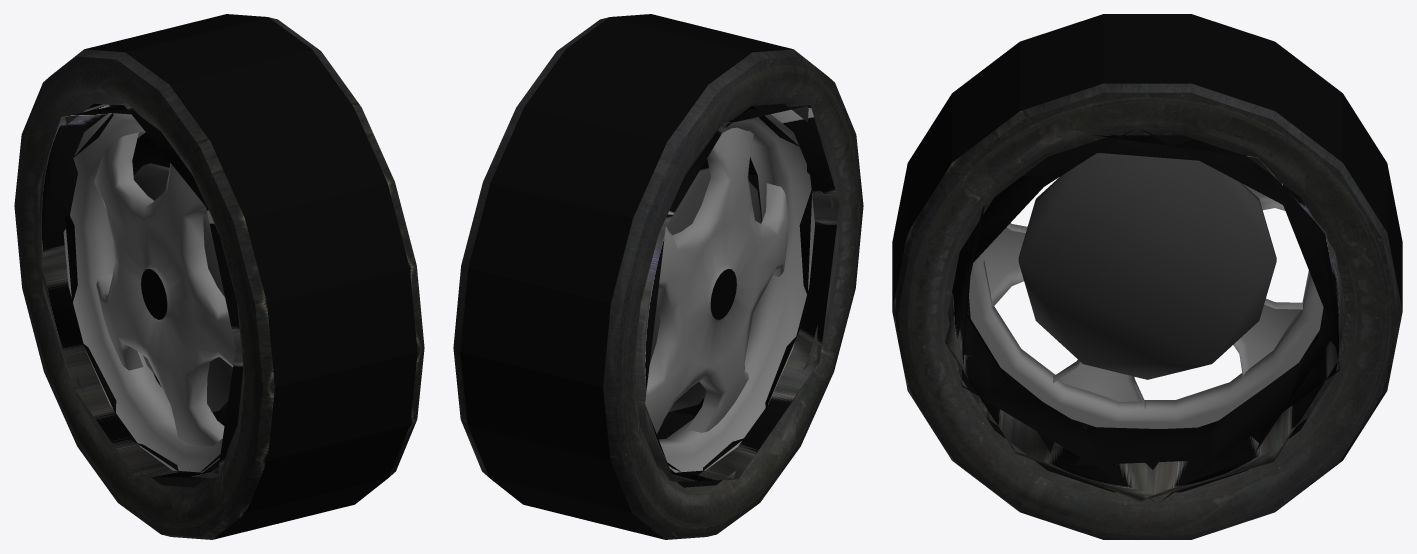
Rendered from M3_wheel_d3.obj.
The picture shows the model from 3 angles, left to right: view 1: azimuth 30°, elevation 25°; view 2: azimuth 150°, elevation 25°; view 3: azimuth 270°, elevation 25°; orthographic projection.
Parts seen in each view (by area): view 1: M3_wheel.001, M3_wheel.002, M3_wheel, M3_wheel.003; view 2: M3_wheel.001, M3_wheel.002, M3_wheel, M3_wheel.003; view 3: M3_wheel.001, M3_wheel.003, M3_wheel, M3_wheel.002.
Part boxes in pixels (x1=…): M3_wheel.001: x1=14, y1=14, x2=424, y2=539; M3_wheel.002: x1=63, y1=113, x2=235, y2=472; M3_wheel: x1=37, y1=103, x2=243, y2=479; M3_wheel.003: x1=133, y1=163, x2=232, y2=412; M3_wheel.001: x1=453, y1=14, x2=863, y2=539; M3_wheel.002: x1=645, y1=114, x2=814, y2=472; M3_wheel: x1=634, y1=103, x2=839, y2=481; M3_wheel.003: x1=649, y1=168, x2=761, y2=411; M3_wheel.001: x1=892, y1=14, x2=1402, y2=539; M3_wheel.003: x1=1018, y1=153, x2=1276, y2=379; M3_wheel: x1=945, y1=128, x2=1345, y2=502; M3_wheel.002: x1=969, y1=184, x2=1323, y2=428.
Bounding box in the file's own units: 0.239 × 0.5942 × 0.6027.
Materials: 3 (2 with a texture image).
